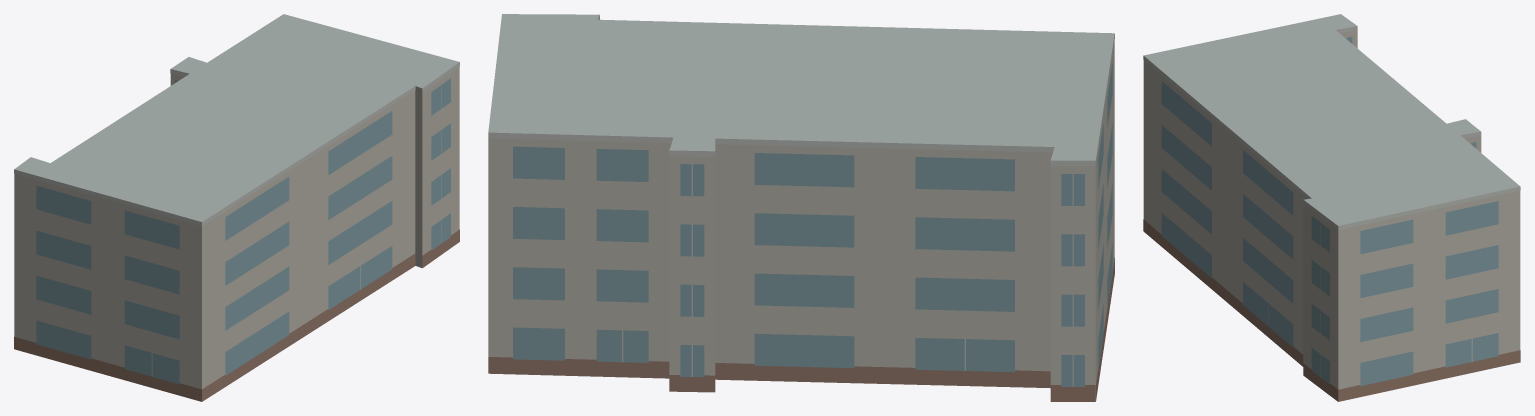
File: survey-upis-33017129.glb
3 views of the same model, side by side, from view 1: azimuth 30°, elevation 25°; view 2: azimuth 150°, elevation 25°; view 3: azimuth 270°, elevation 25° (orthographic). The views are drawn at different scales.
Parts seen in each view (by area): view 1: survey-upis-33017129.tmp; view 2: survey-upis-33017129.tmp; view 3: survey-upis-33017129.tmp.
Part boxes in pixels (x1=…): survey-upis-33017129.tmp: x1=14, y1=14, x2=459, y2=401; survey-upis-33017129.tmp: x1=488, y1=14, x2=1114, y2=401; survey-upis-33017129.tmp: x1=1143, y1=14, x2=1520, y2=401.
Bounding box in the file's own units: 26.9 × 10.4 × 20.21.
